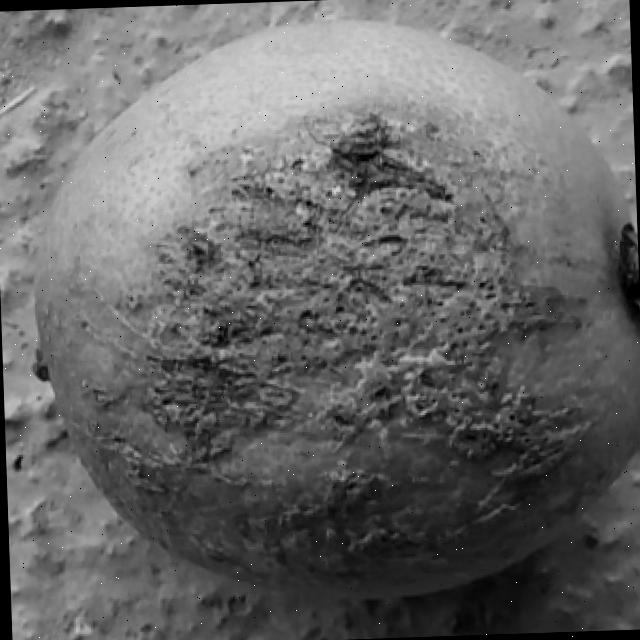overripe: (22, 5, 640, 622)
